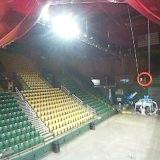Orange_Circle_GShape: (138, 70, 153, 85)
